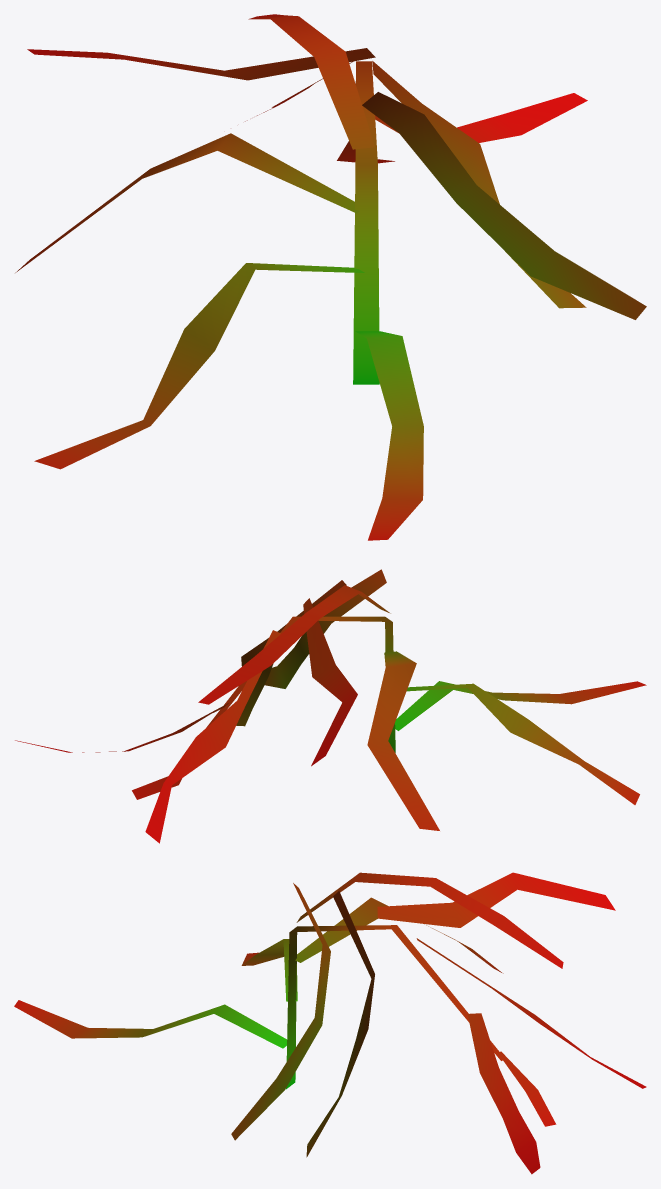
File: Great Brome_LOD4_Var7_tjugaikia.fbx
The picture shows the model from 3 angles, top to bottom: view 1: azimuth 30°, elevation 25°; view 2: azimuth 150°, elevation 25°; view 3: azimuth 270°, elevation 25°; orthographic projection. The views are drawn at different scales.
Visible parts, largest first — view 1: _a003_Var7_LOD4; view 2: _a003_Var7_LOD4; view 3: _a003_Var7_LOD4.
Part boxes in pixels (x1=…): _a003_Var7_LOD4: x1=15, y1=14, x2=646, y2=540; _a003_Var7_LOD4: x1=15, y1=569, x2=646, y2=843; _a003_Var7_LOD4: x1=14, y1=872, x2=646, y2=1174.
Size of the model in its own units: 66.68 by 25.55 by 69.01.
